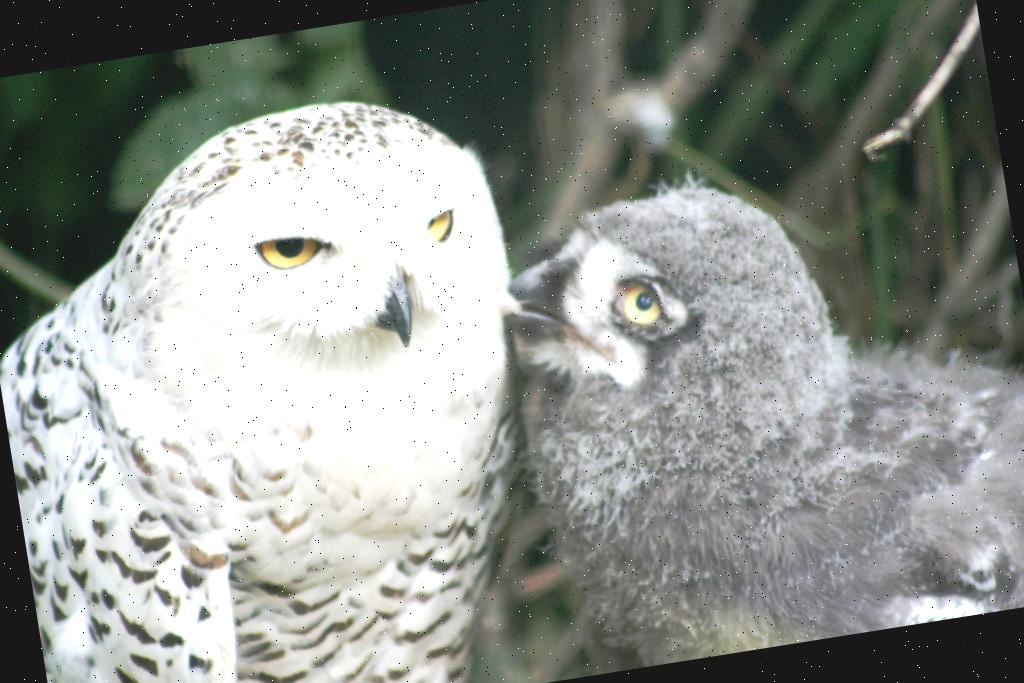Owl: (0, 75, 573, 683), (490, 120, 1024, 678)
